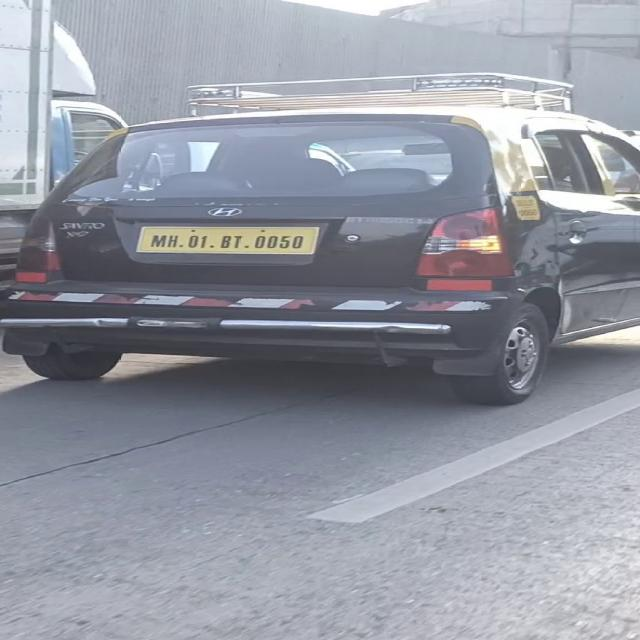Plate: (136, 225, 318, 257)
